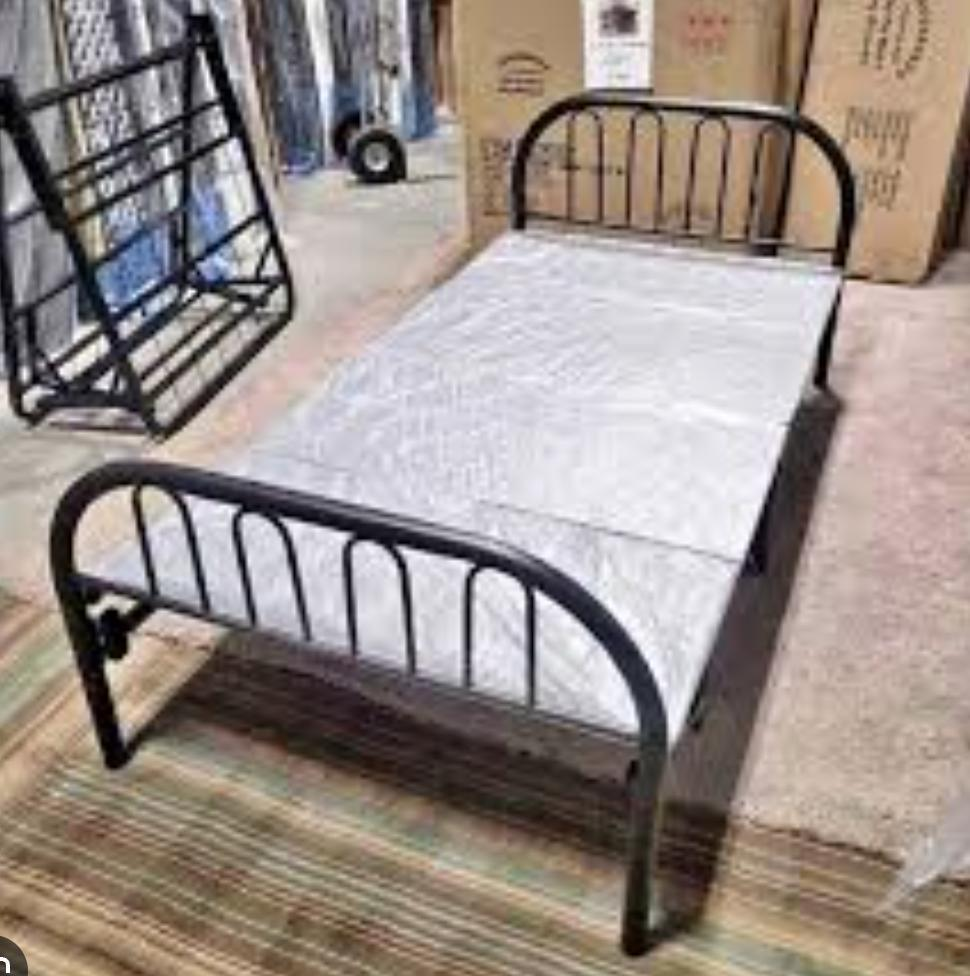Bed-Mattress: (36, 77, 869, 970)
